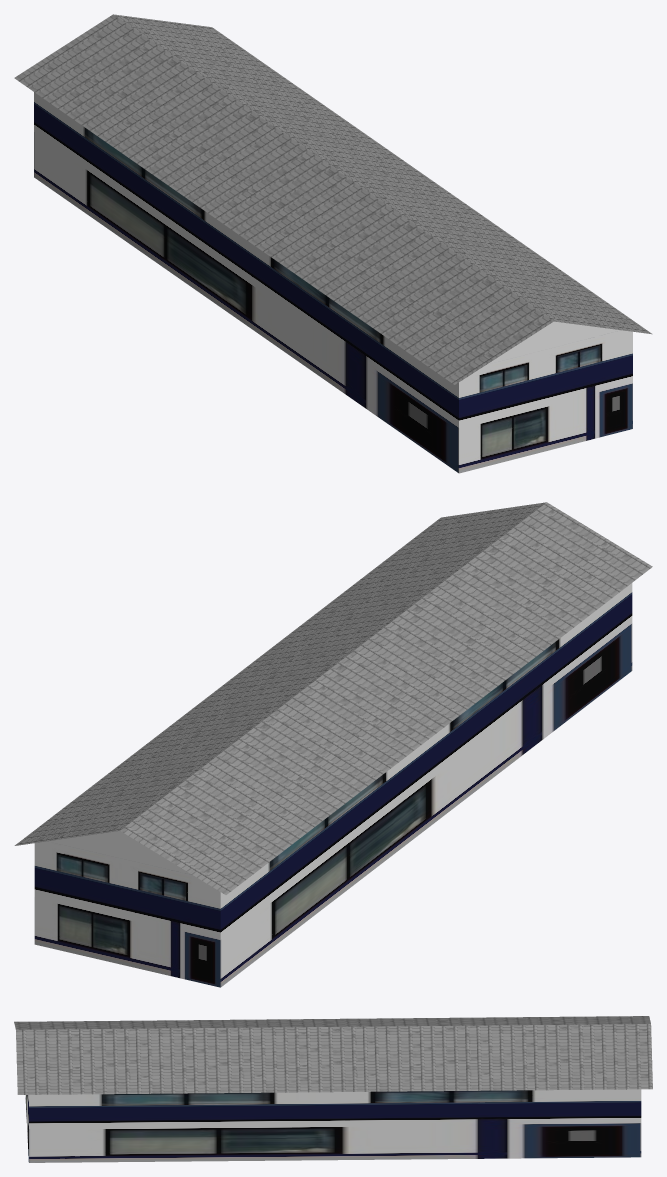
The picture shows the model from 3 angles, top to bottom: view 1: azimuth 30°, elevation 25°; view 2: azimuth 150°, elevation 25°; view 3: azimuth 270°, elevation 25°; orthographic projection. The views are drawn at different scales.
Visible parts, largest first — view 1: CityEngineMaterial_4_m, CityEngineMaterial_2_m, CityEngineMaterial_3_m; view 2: CityEngineMaterial_4_m, CityEngineMaterial_2_m, CityEngineMaterial_3_m; view 3: CityEngineMaterial_4_m, CityEngineMaterial_2_m.
Part boxes in pixels (left/top/right/bottom): CityEngineMaterial_4_m: left=14, top=14, right=652, bottom=384; CityEngineMaterial_2_m: left=34, top=92, right=632, bottom=473; CityEngineMaterial_3_m: left=487, top=321, right=620, bottom=364; CityEngineMaterial_4_m: left=14, top=502, right=652, bottom=894; CityEngineMaterial_2_m: left=34, top=583, right=632, bottom=987; CityEngineMaterial_3_m: left=48, top=831, right=191, bottom=874; CityEngineMaterial_4_m: left=14, top=1016, right=652, bottom=1094; CityEngineMaterial_2_m: left=25, top=1089, right=641, bottom=1162.
Bounding box in the file's own units: 16.46 × 9.82 × 56.25.
